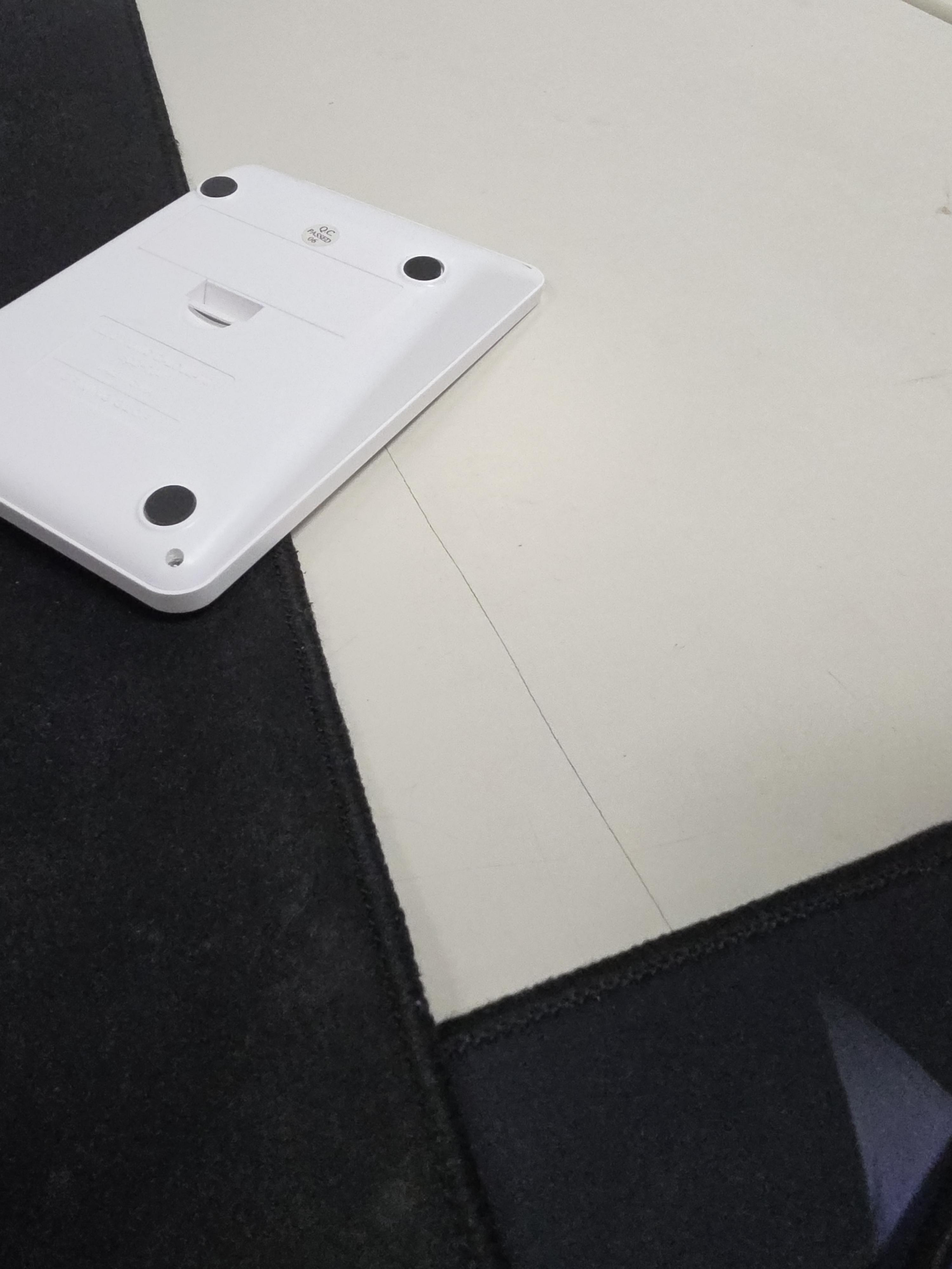calculator: (0, 164, 546, 614)
